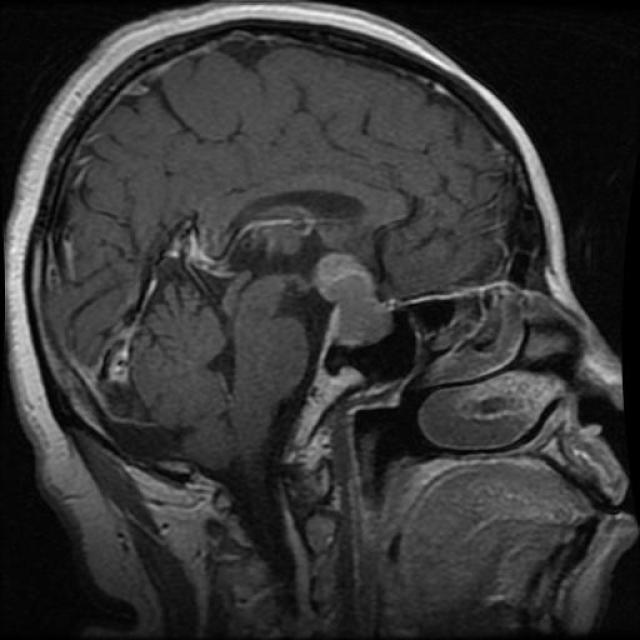pituitary: (302, 246, 397, 349)
